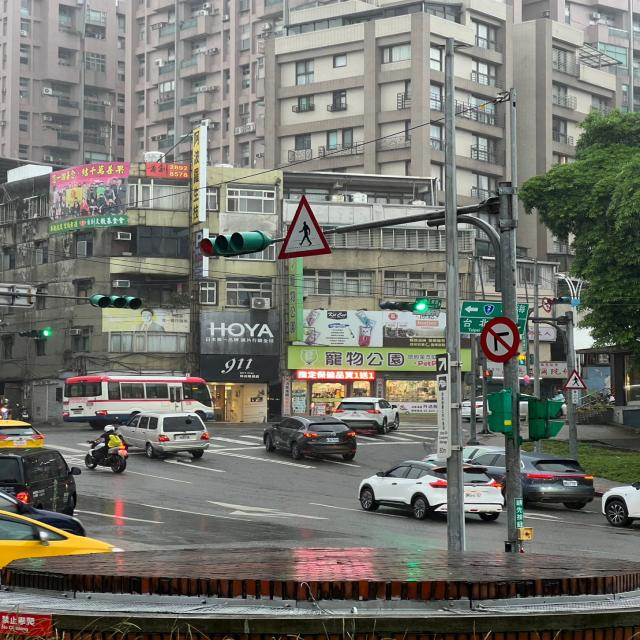green light: (377, 299, 427, 312), (17, 329, 53, 338)
